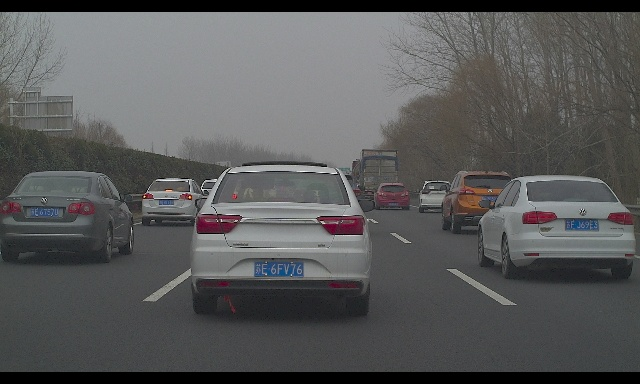car: (190, 161, 375, 315), (477, 174, 636, 279), (0, 171, 134, 263), (440, 170, 514, 234), (142, 178, 209, 226), (416, 180, 453, 213), (372, 183, 410, 210)
truck: (356, 155, 398, 203), (359, 149, 397, 192)
